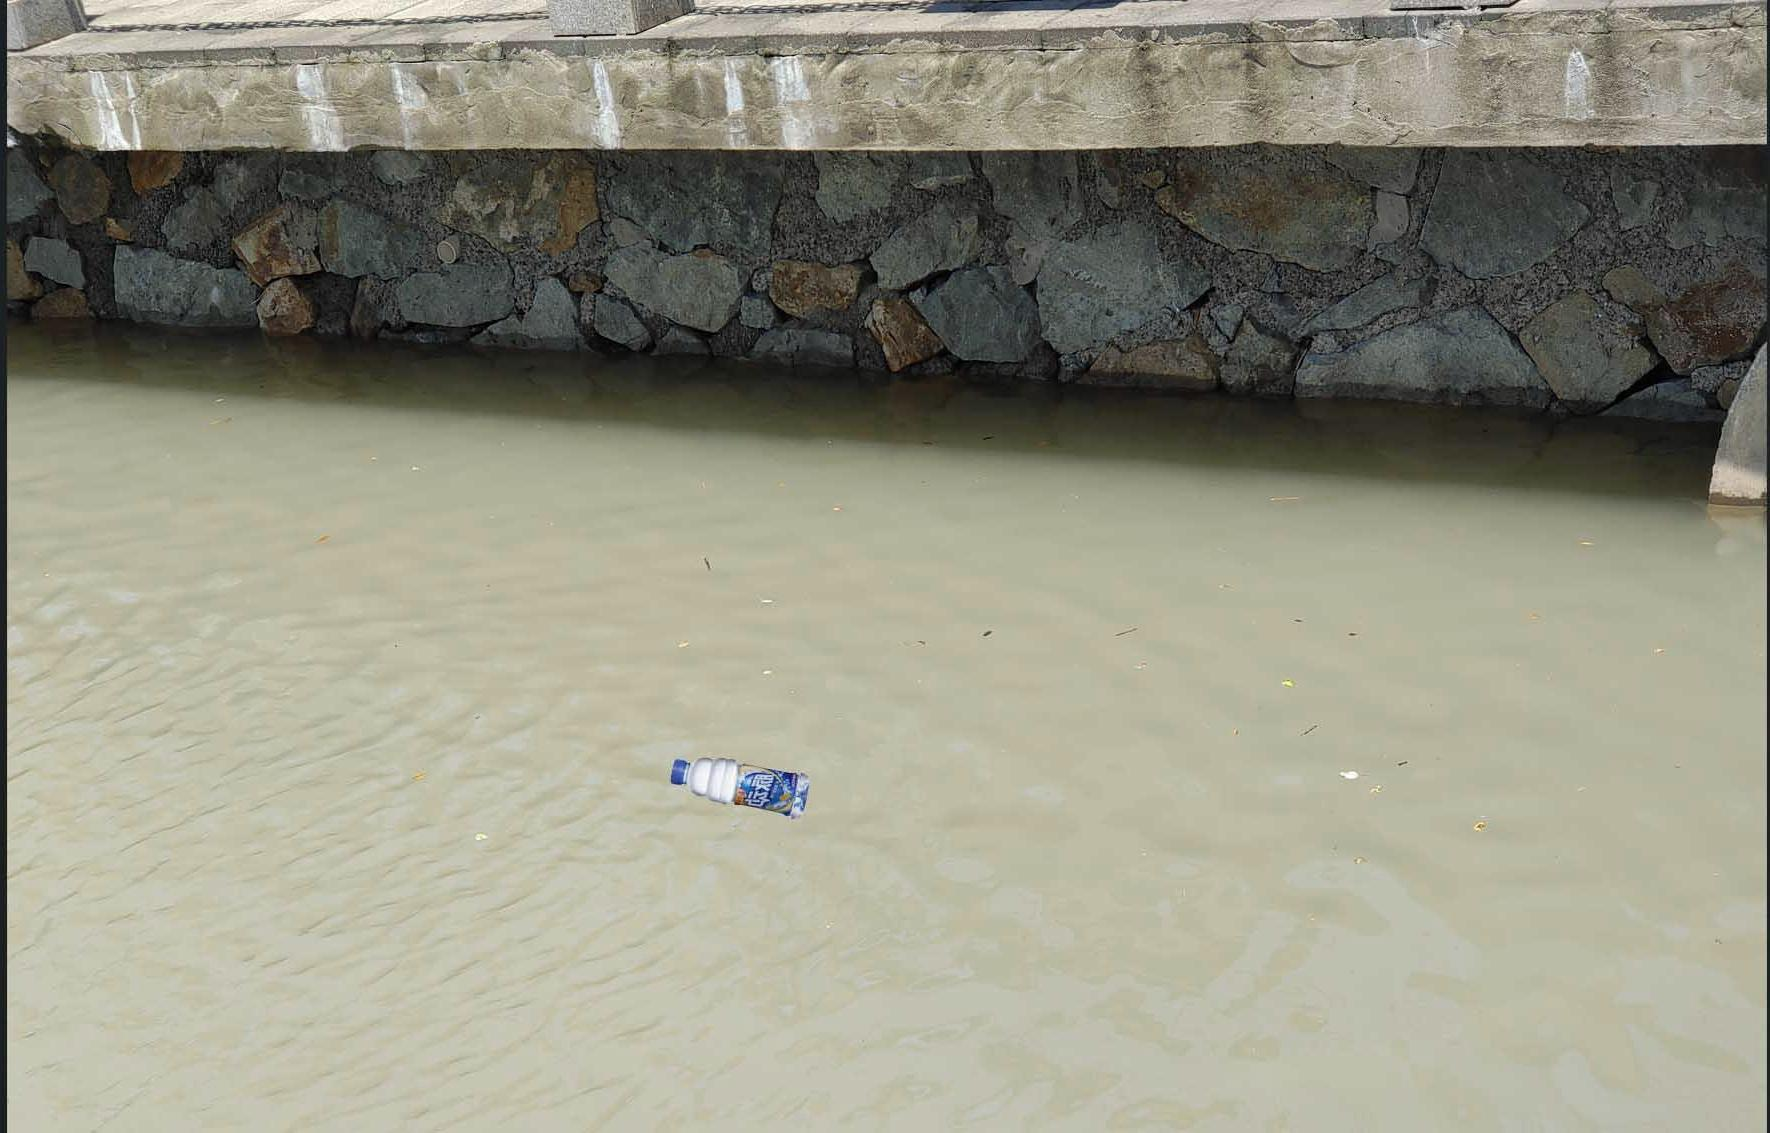Plastic: (666, 752, 808, 819)
